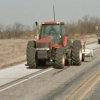Tractor: (19, 11, 85, 74)
